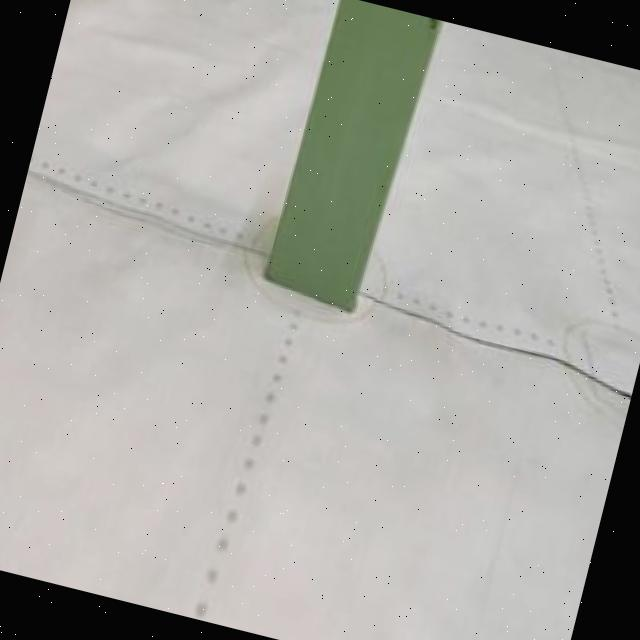greenbox: (253, 0, 449, 317)
